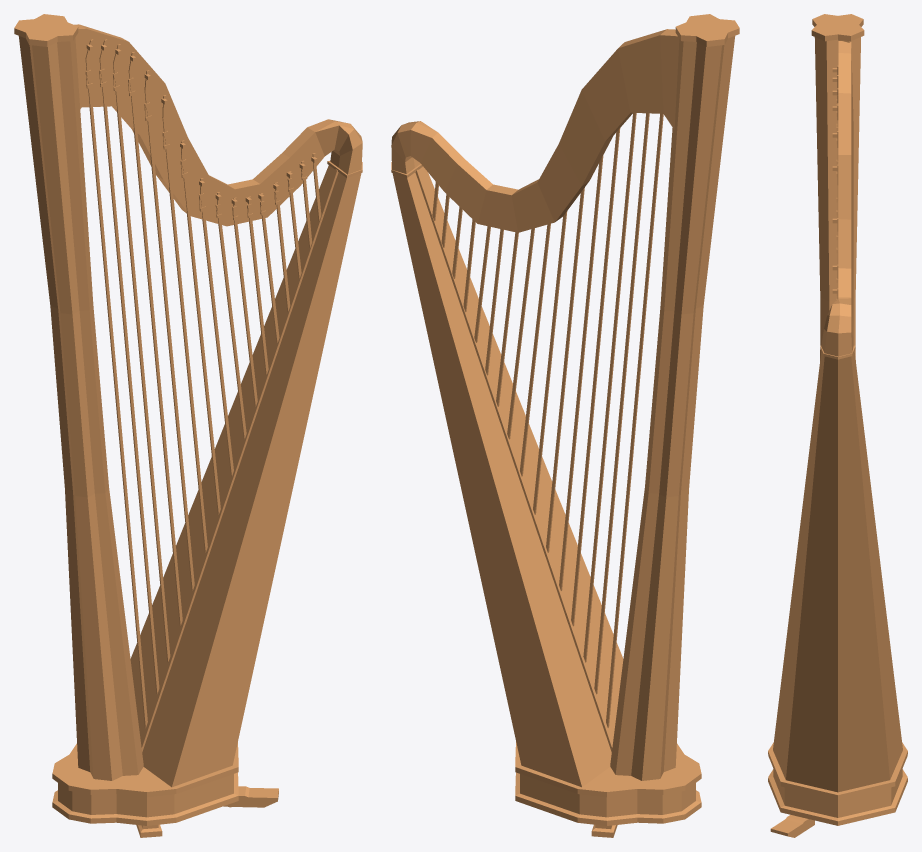
Rendered from Harp.glb.
The picture shows the model from 3 angles, left to right: view 1: azimuth 30°, elevation 25°; view 2: azimuth 150°, elevation 25°; view 3: azimuth 270°, elevation 25°; orthographic projection. The views are drawn at different scales.
Visible parts, largest first — view 1: node-0; view 2: node-0; view 3: node-0.
Boxes of the visible parts, x1=… form: node-0: x1=14, y1=14, x2=362, y2=837; node-0: x1=391, y1=14, x2=739, y2=837; node-0: x1=768, y1=14, x2=907, y2=837.
Bounding box in the file's own units: 2.31 × 5.2 × 0.905.
